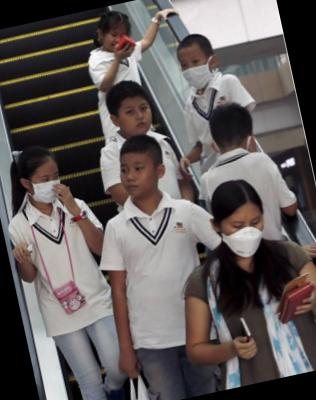with_mask: (219, 212, 273, 264), (177, 50, 216, 91), (28, 169, 67, 207)
without_mask: (116, 157, 158, 201), (116, 99, 158, 141), (99, 27, 133, 54)
